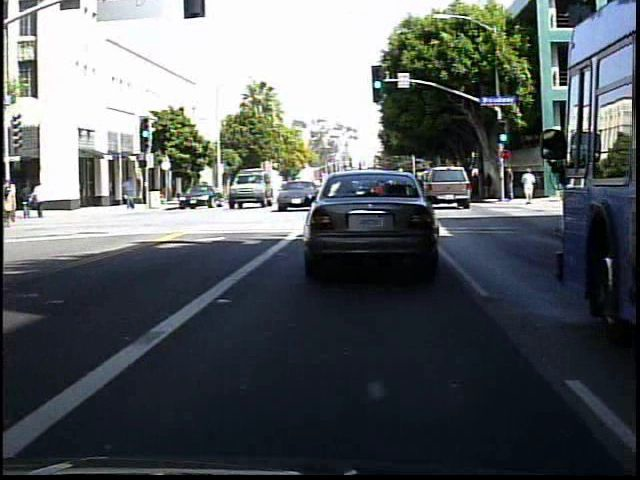person: (500, 163, 519, 207), (5, 181, 21, 229), (520, 165, 537, 207), (33, 180, 50, 220), (122, 175, 140, 212), (23, 183, 35, 219), (471, 172, 484, 202), (482, 169, 494, 201)
